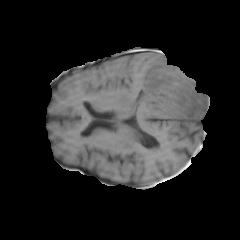glioma: (137, 58, 209, 119)
